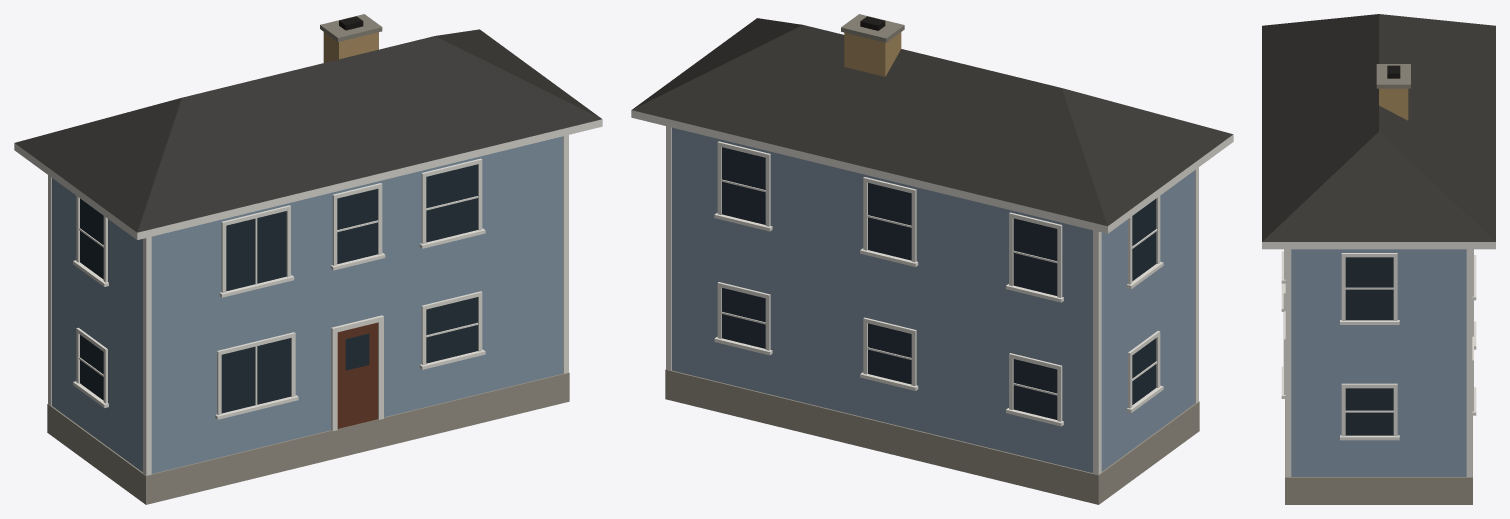
File: house-0002.glb
3 views of the same model, side by side, from view 1: azimuth 30°, elevation 25°; view 2: azimuth 150°, elevation 25°; view 3: azimuth 270°, elevation 25° (orthographic). The views are drawn at different scales.
Visible parts, largest first — view 1: house_wall, house_roof, house_trim, house_glass, house_foundation, house_door, house_chimney, house_chimneycap; view 2: house_wall, house_roof, house_trim, house_glass, house_foundation, house_chimney, house_chimneycap; view 3: house_roof, house_wall, house_trim, house_foundation, house_glass, house_chimney, house_chimneycap.
Part boxes in pixels (bbox=[...]): house_wall: bbox=[52, 136, 562, 473]; house_roof: bbox=[15, 29, 601, 232]; house_trim: bbox=[14, 119, 602, 475]; house_glass: bbox=[80, 164, 477, 413]; house_foundation: bbox=[47, 372, 569, 504]; house_door: bbox=[337, 322, 377, 428]; house_chimney: bbox=[323, 32, 378, 62]; house_chimneycap: bbox=[320, 14, 382, 41]; house_wall: bbox=[672, 127, 1194, 472]; house_roof: bbox=[632, 18, 1232, 226]; house_trim: bbox=[631, 110, 1233, 474]; house_glass: bbox=[722, 147, 1156, 419]; house_foundation: bbox=[665, 369, 1199, 504]; house_chimney: bbox=[844, 32, 901, 76]; house_chimneycap: bbox=[841, 14, 904, 42]; house_roof: bbox=[1262, 14, 1495, 241]; house_wall: bbox=[1291, 249, 1466, 476]; house_trim: bbox=[1262, 242, 1495, 477]; house_foundation: bbox=[1285, 399, 1472, 504]; house_glass: bbox=[1345, 257, 1393, 435]; house_chimney: bbox=[1379, 88, 1408, 120]; house_chimneycap: bbox=[1376, 64, 1410, 88].
Size of the model in its own units: 10.46 by 8.13 by 4.78.
